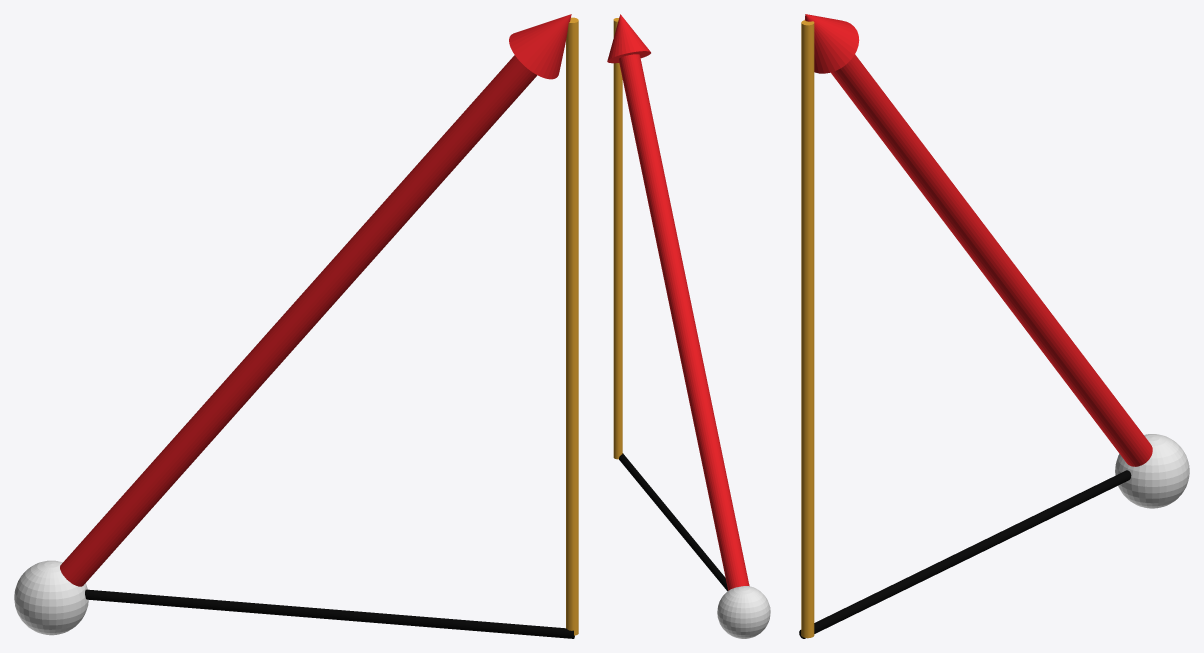
File: chisq1.glb
The picture shows the model from 3 angles, left to right: view 1: azimuth 30°, elevation 25°; view 2: azimuth 150°, elevation 25°; view 3: azimuth 270°, elevation 25°; orthographic projection. The views are drawn at different scales.
Parts seen in each view (by area): view 1: Cylinder, Cylinder.002, Cylinder.003, Sphere, Cone; view 2: Cylinder, Cylinder.002, Sphere, Cylinder.003, Cone; view 3: Cylinder, Cylinder.002, Cylinder.003, Sphere, Cone.
Boxes of the visible parts, x1,y1,x2,y2 form: Cylinder: [60, 55, 537, 586]; Cylinder.002: [566, 17, 578, 635]; Cylinder.003: [85, 589, 574, 638]; Sphere: [14, 560, 88, 635]; Cone: [509, 14, 571, 79]; Cylinder: [618, 54, 749, 590]; Cylinder.002: [613, 18, 622, 459]; Sphere: [717, 586, 770, 638]; Cylinder.003: [619, 453, 728, 590]; Cone: [607, 14, 650, 63]; Cylinder: [831, 54, 1152, 466]; Cylinder.002: [801, 20, 814, 638]; Cylinder.003: [799, 470, 1131, 638]; Sphere: [1115, 434, 1189, 508]; Cone: [805, 14, 859, 73].
Size of what is drawn, in the model's own units: 1.88 by 3.08 by 1.65.
